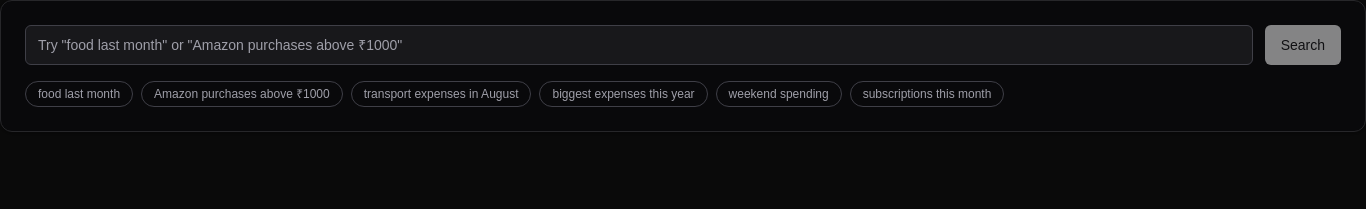
NaturalLanguageSearch › shows an empty state when nothing matches
Click the button "weekend spending" at point(779, 94), box [716,81,842,107]
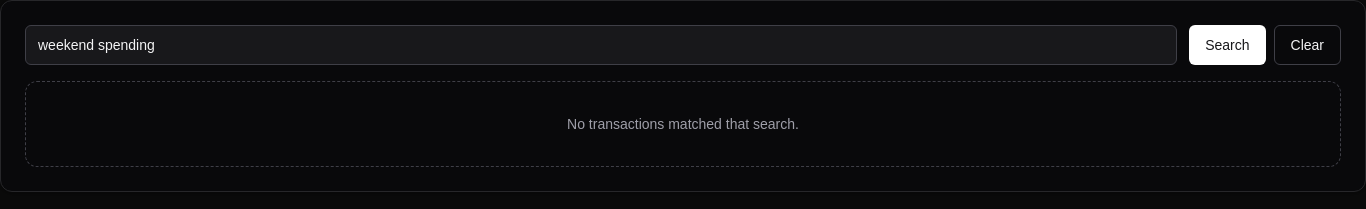
Now the text "No transactions matched that search." is shown, box [25,81,1341,167]
